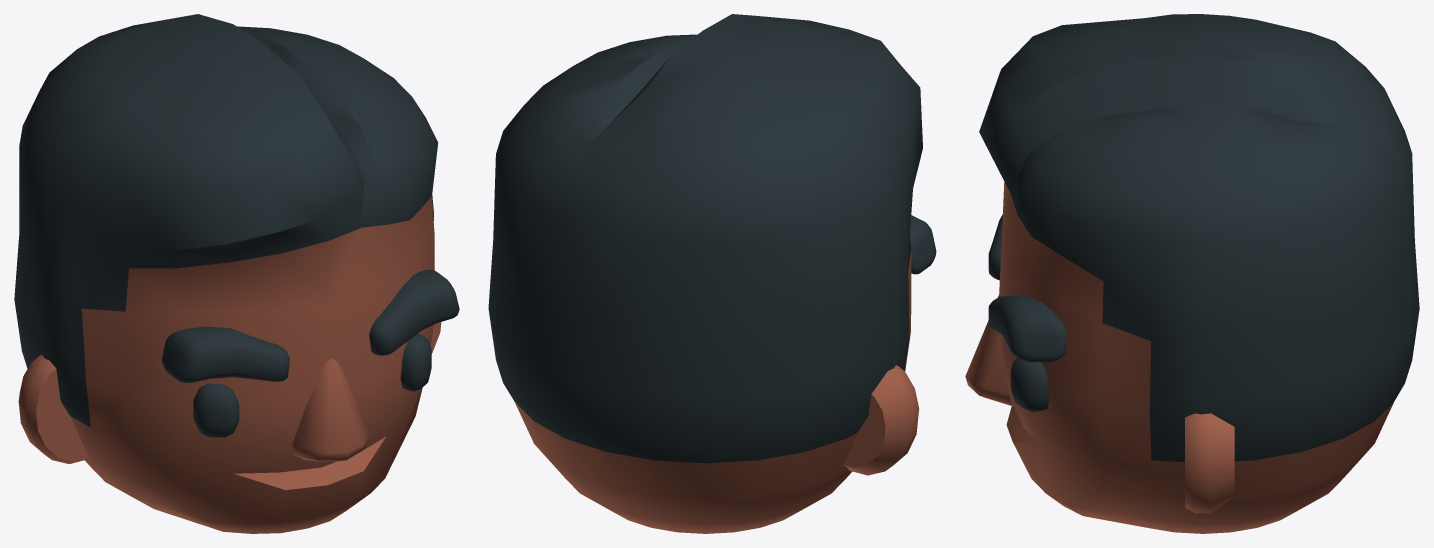
Rendered from kaykit-knightheada.glb.
3 views of the same model, side by side, from view 1: azimuth 30°, elevation 25°; view 2: azimuth 150°, elevation 25°; view 3: azimuth 270°, elevation 25° (orthographic).
Parts seen in each view (by area): view 1: knightHeadA; view 2: knightHeadA; view 3: knightHeadA.
Boxes of the visible parts, x1=… form: knightHeadA: x1=14, y1=14, x2=459, y2=533; knightHeadA: x1=488, y1=14, x2=936, y2=533; knightHeadA: x1=965, y1=14, x2=1419, y2=533.
Size of the model in its own units: 1.18 by 1.19 by 1.11.
